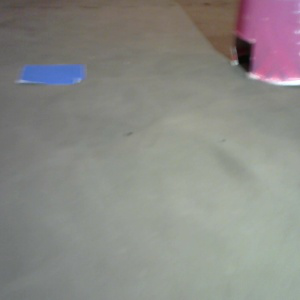right: (228, 1, 300, 87)
